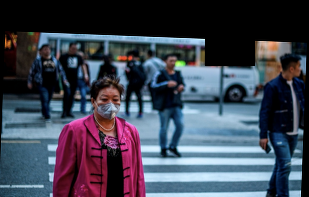with_mask: (96, 92, 121, 121)
without_mask: (294, 61, 303, 78), (167, 57, 177, 69), (42, 47, 51, 57), (70, 44, 78, 55)
